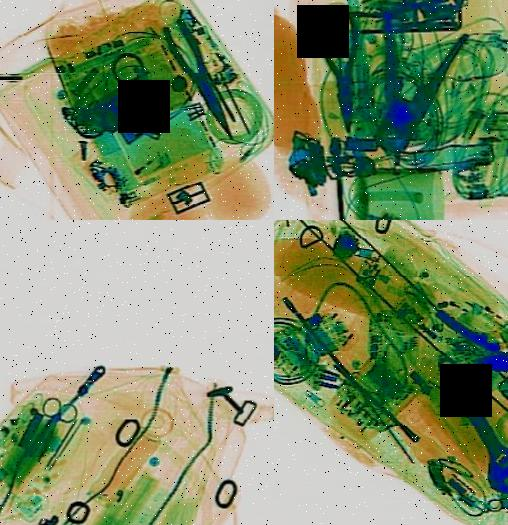Pliers: (344, 0, 469, 166), (157, 15, 249, 145), (322, 10, 368, 134)
Scissors: (25, 390, 80, 468)
Wrench: (416, 350, 508, 498)
